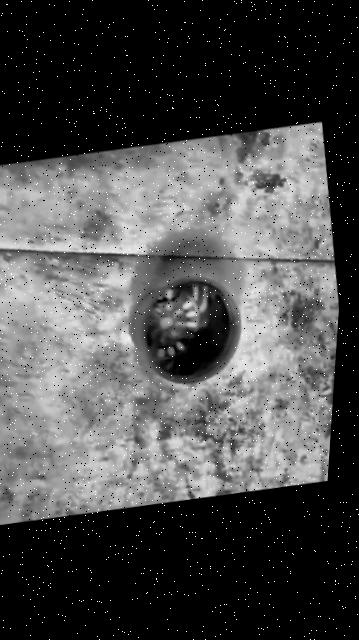pot: (118, 268, 251, 394)
